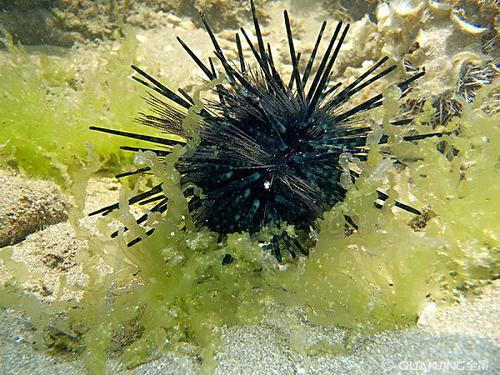urchin: (123, 26, 425, 251)
